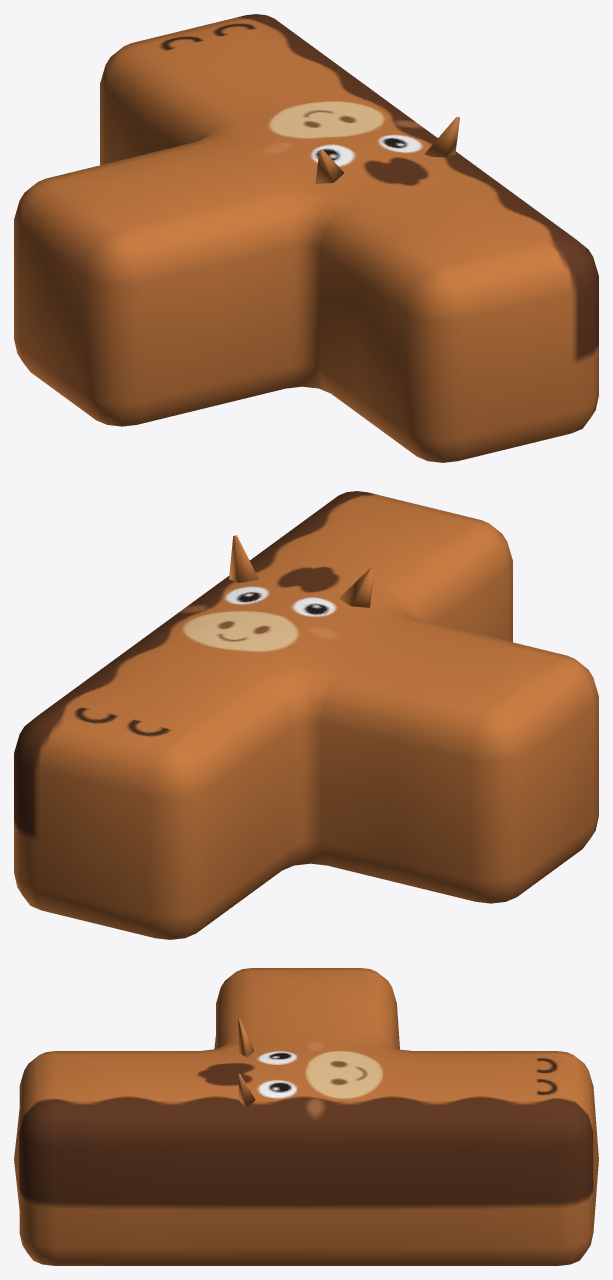
Rendered from Horse_T.fbx.
3 views of the same model, one above another, from view 1: azimuth 30°, elevation 25°; view 2: azimuth 150°, elevation 25°; view 3: azimuth 270°, elevation 25° (orthographic). The views are drawn at different scales.
Parts seen in each view (by area): view 1: Horse_T; view 2: Horse_T; view 3: Horse_T.
Boxes of the visible parts, x1,y1,x2,y2 form: Horse_T: (14,14,598,462); Horse_T: (14,491,598,939); Horse_T: (14,968,598,1265).
Size of the model in its own units: 1.98 by 1.04 by 2.98.
Materials: 1 (1 with a texture image).
